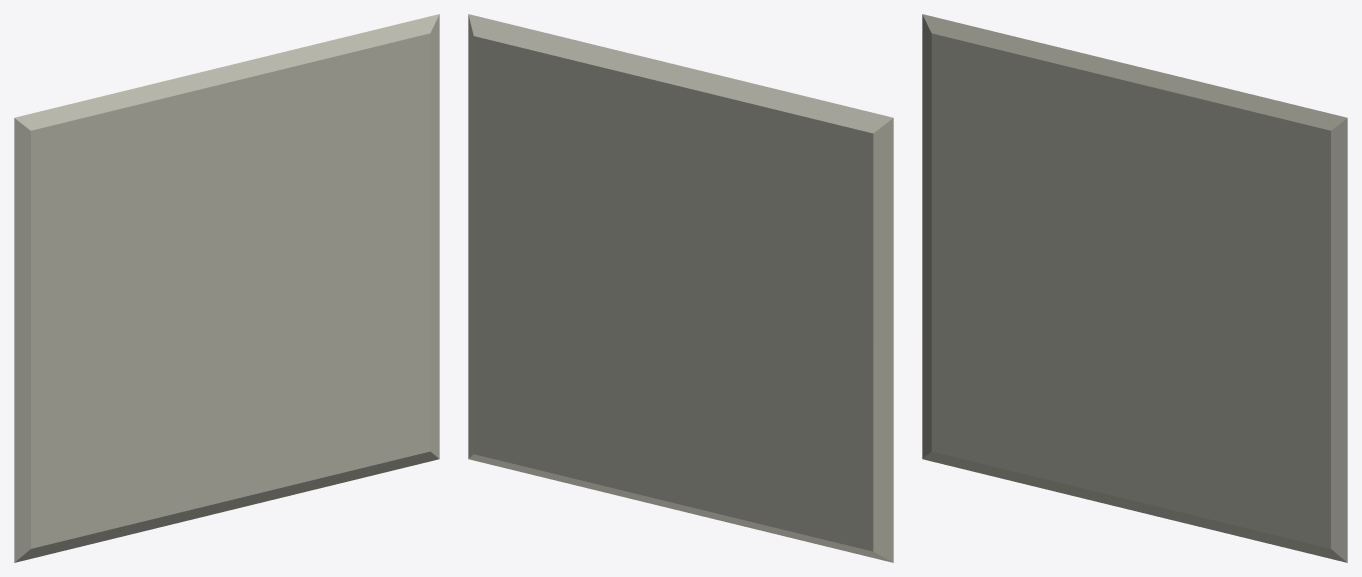
Rendered from wallpaper_wall_LOD_setup.fbx.
The picture shows the model from 3 angles, left to right: view 1: azimuth 30°, elevation 25°; view 2: azimuth 150°, elevation 25°; view 3: azimuth 330°, elevation 25°; orthographic projection.
Visible parts, largest first — view 1: wallpaper_wall_LOD0; view 2: wallpaper_wall_LOD0; view 3: wallpaper_wall_LOD0.
Boxes of the visible parts, x1,y1,x2,y2 form: wallpaper_wall_LOD0: (14,14,439,562); wallpaper_wall_LOD0: (468,14,893,562); wallpaper_wall_LOD0: (922,14,1347,562).
Size of what is drawn, in the model's own units: 106 by 106 by 4.77.
